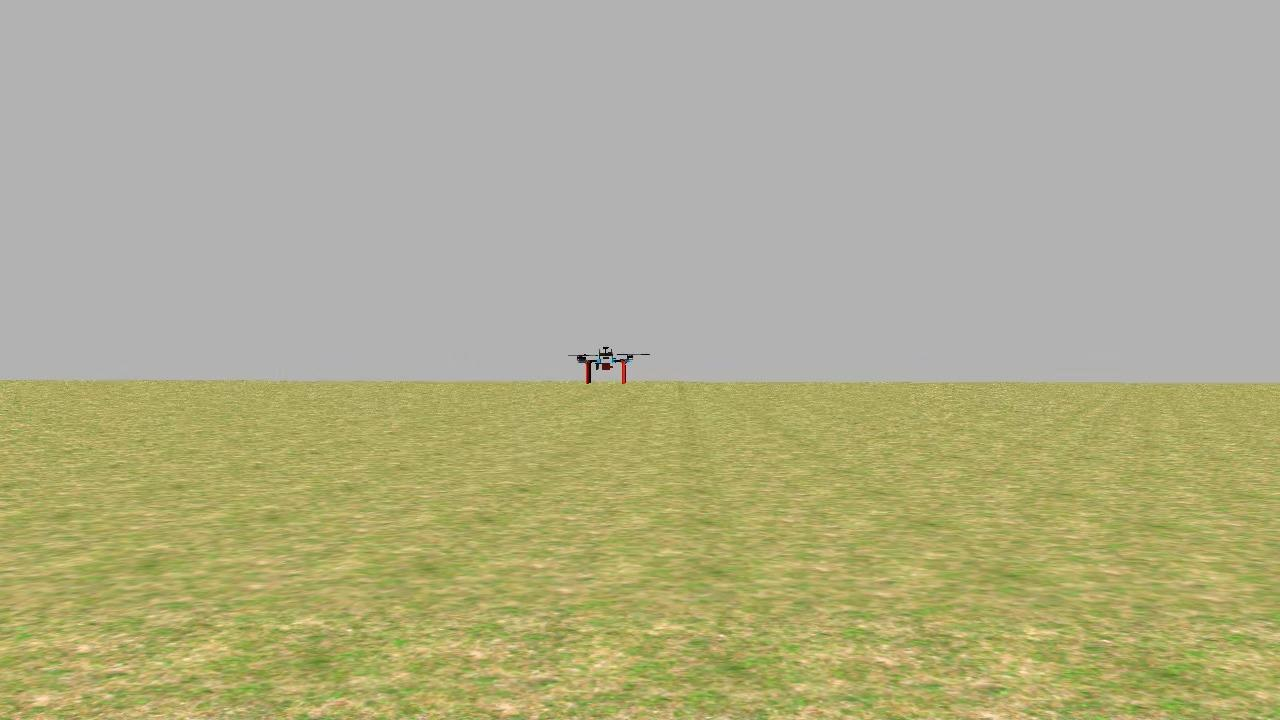UAV: (569, 324, 657, 399)
